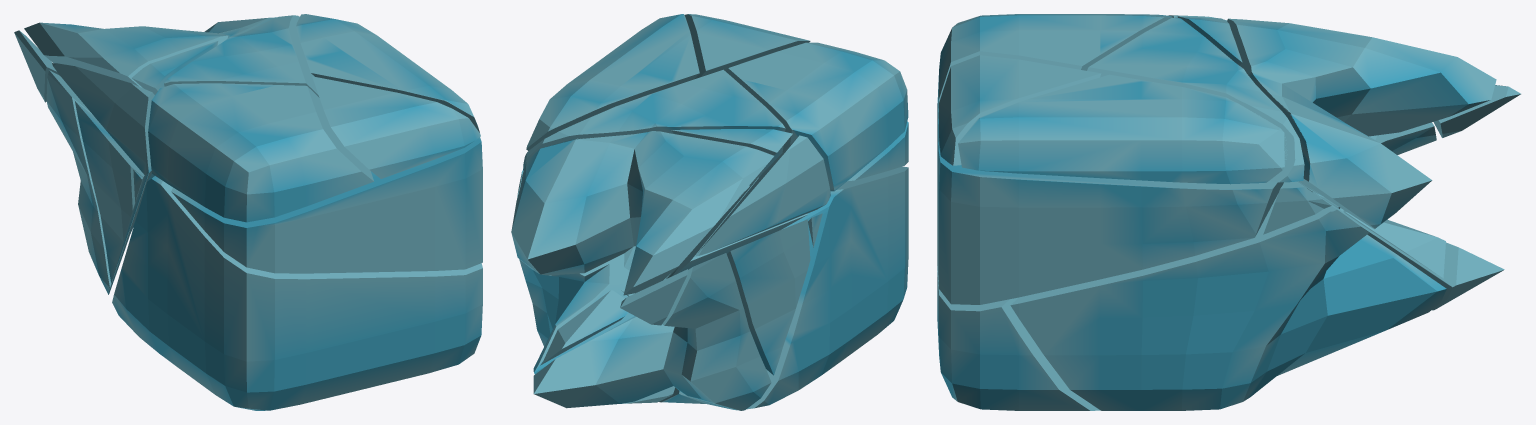
File: iceWall1.fbx
3 views of the same model, side by side, from view 1: azimuth 30°, elevation 25°; view 2: azimuth 150°, elevation 25°; view 3: azimuth 270°, elevation 25° (orthographic). The views are drawn at different scales.
Parts seen in each view (by area): view 1: wall_40HP; view 2: wall_40HP; view 3: wall_40HP.
Boxes of the visible parts, x1=… form: wall_40HP: x1=14, y1=14, x2=482, y2=410; wall_40HP: x1=511, y1=14, x2=908, y2=410; wall_40HP: x1=937, y1=14, x2=1520, y2=410.
Bounding box in the file's own units: 100 × 100 × 179.
